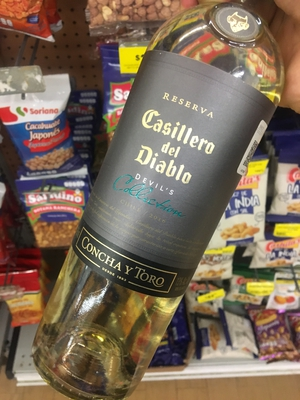casillero del diablo devils collection verde: (61, 26, 271, 361)
